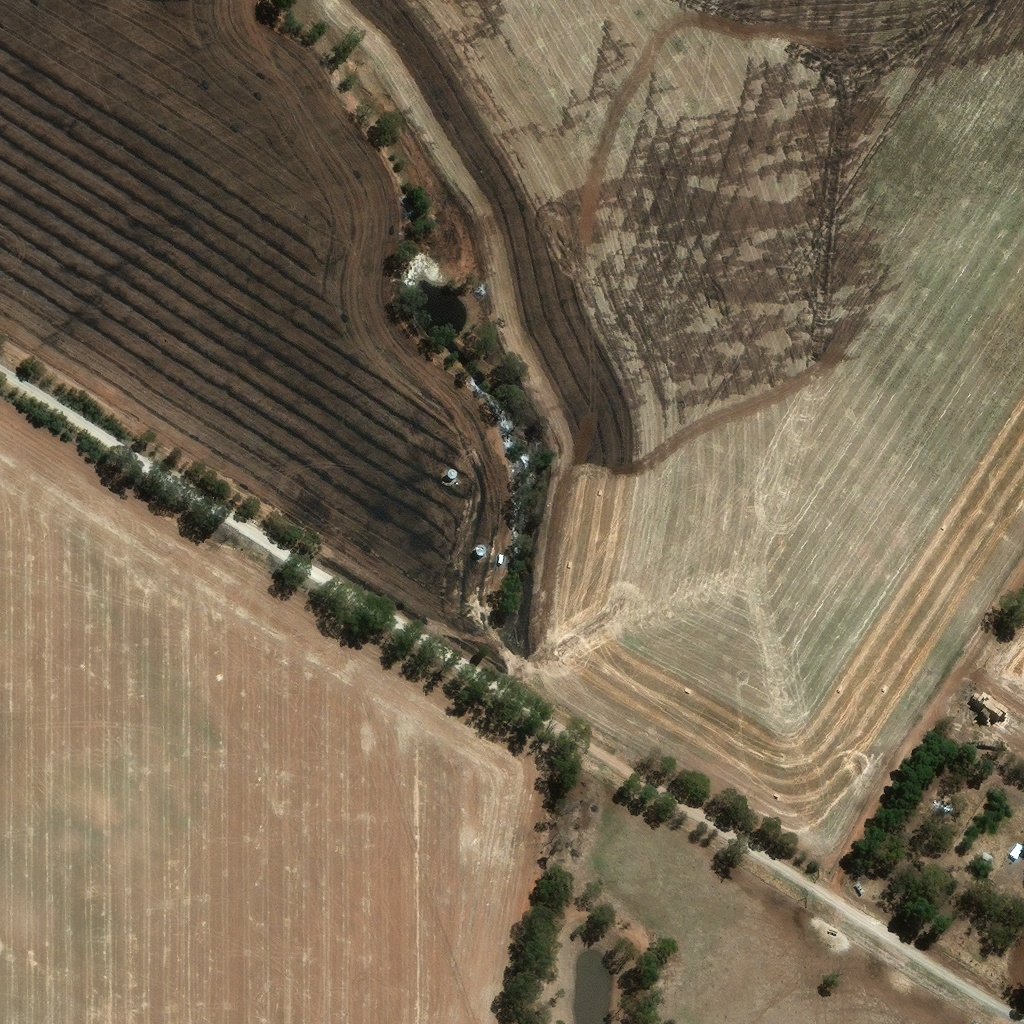0 no-damage: (1008, 841, 1023, 859), (979, 849, 995, 862)
